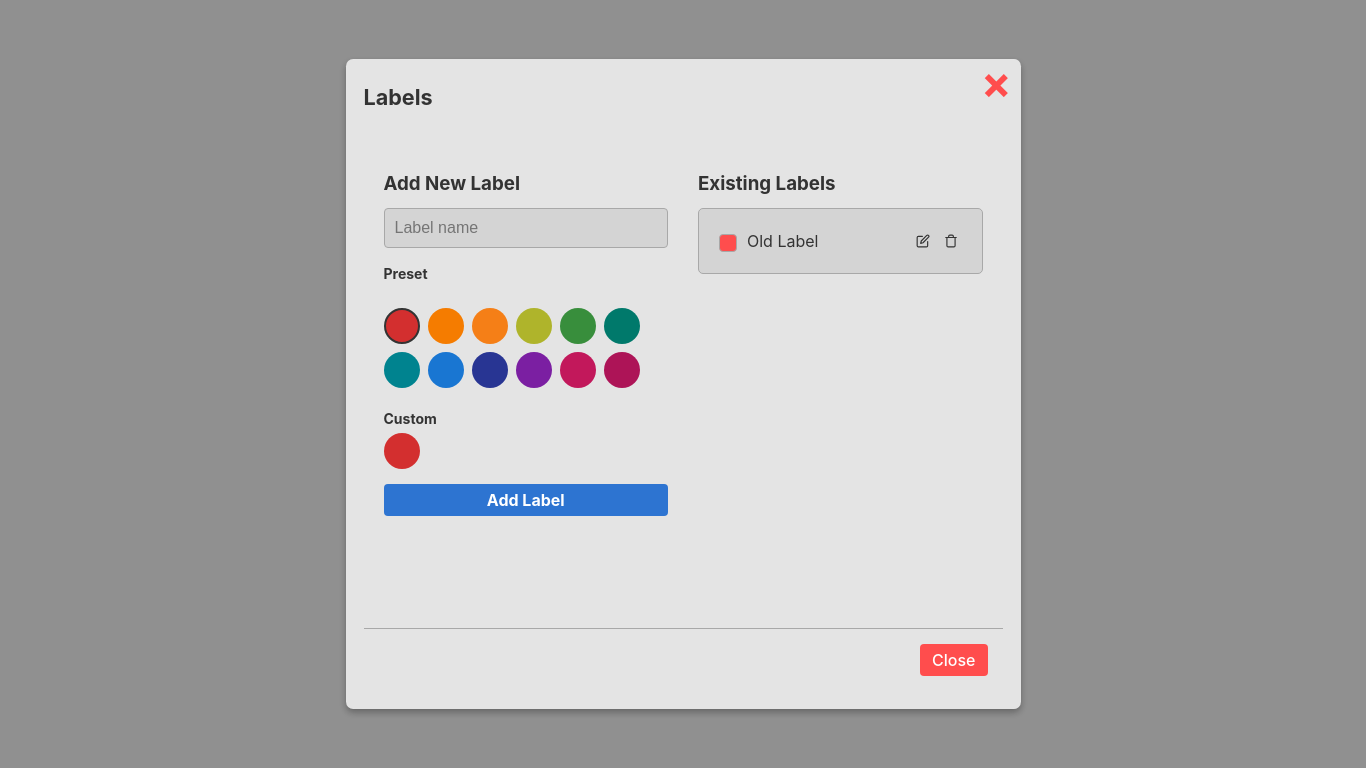
Test: LabelsModal - Unit Tests › Editing cancellation › should cancel editing and reset edit state when Cancel is clicked
Click the button with class "edit-btn" at [922, 241], box [912,230,934,252]
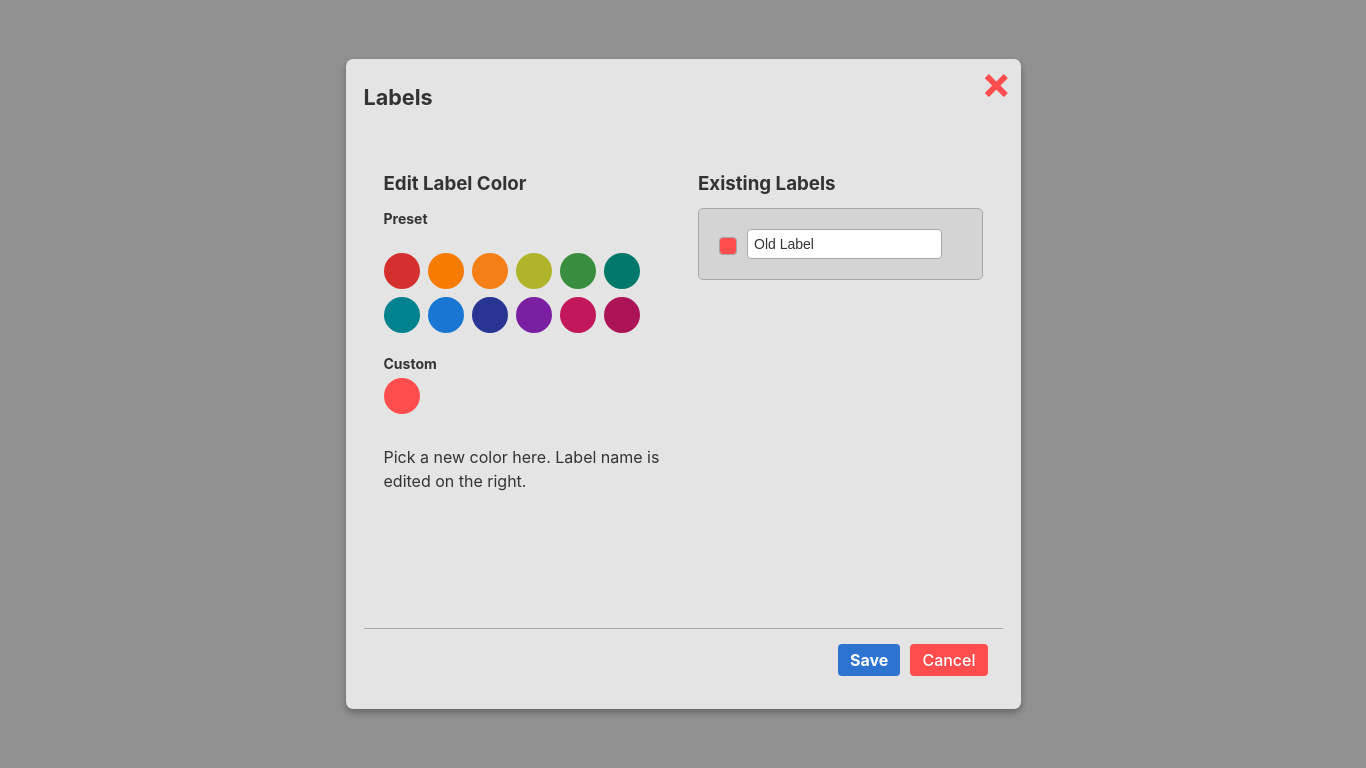
Expected: the heading "Edit Label Color" is shown, [384,172,526,195]
Click the button "Cancel" at [949, 660], box [910,644,988,676]
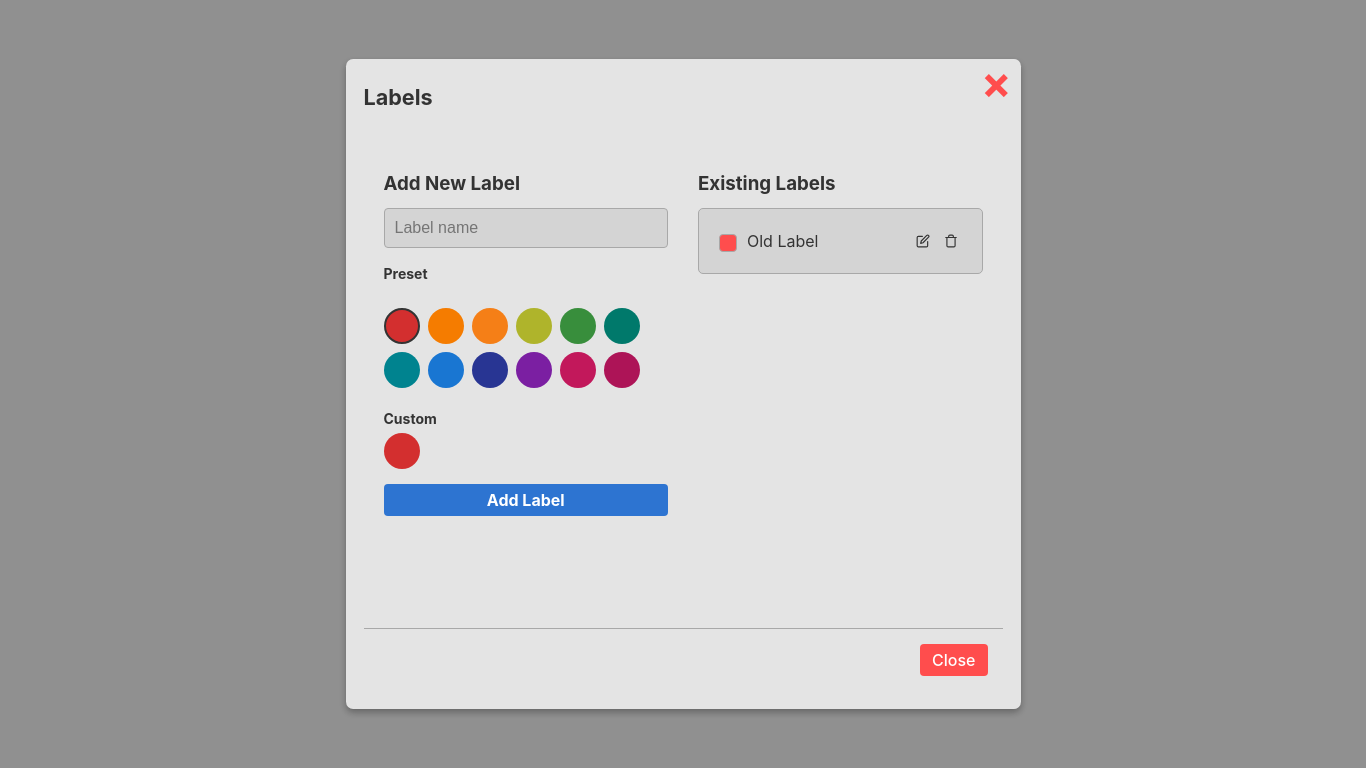
Expected: the heading "Add New Label" is shown, [384,172,520,195]
